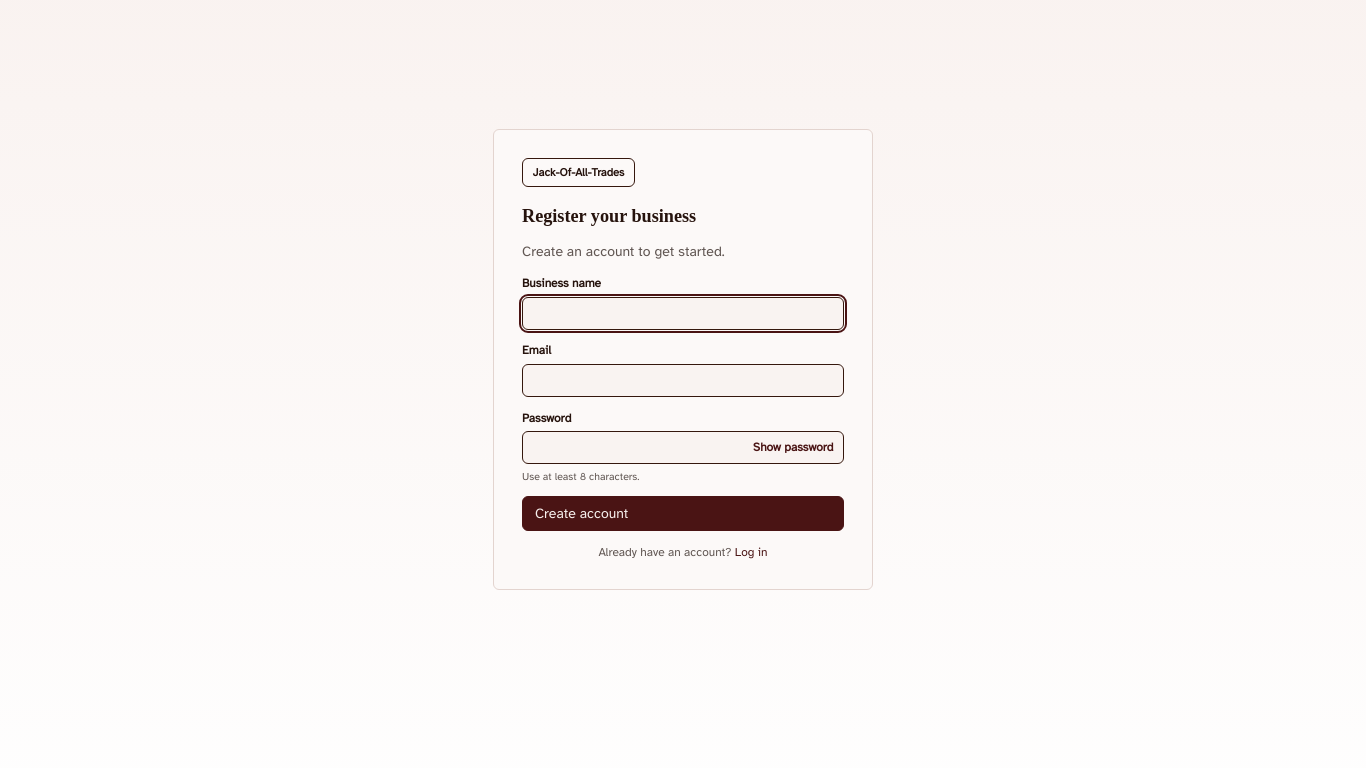
Scenario: authentication pages › shows field errors the server returns during registration
Type "Test Business" into the field labelled "Business name".
click(683, 313); type("Test Business")  # box [522,297,844,330]
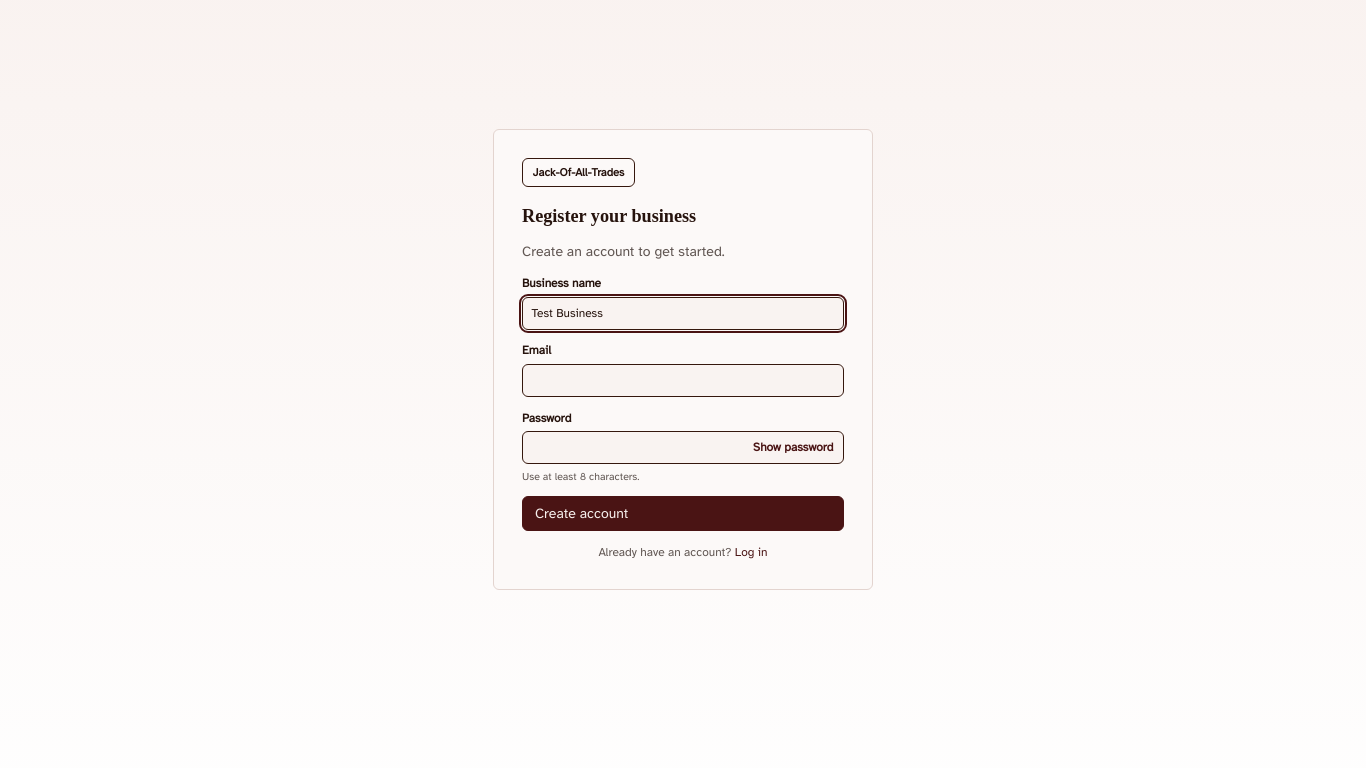
Type "owner@example.com" into the field labelled "Email".
click(683, 380); type("owner@example.com")  # box [522,364,844,397]
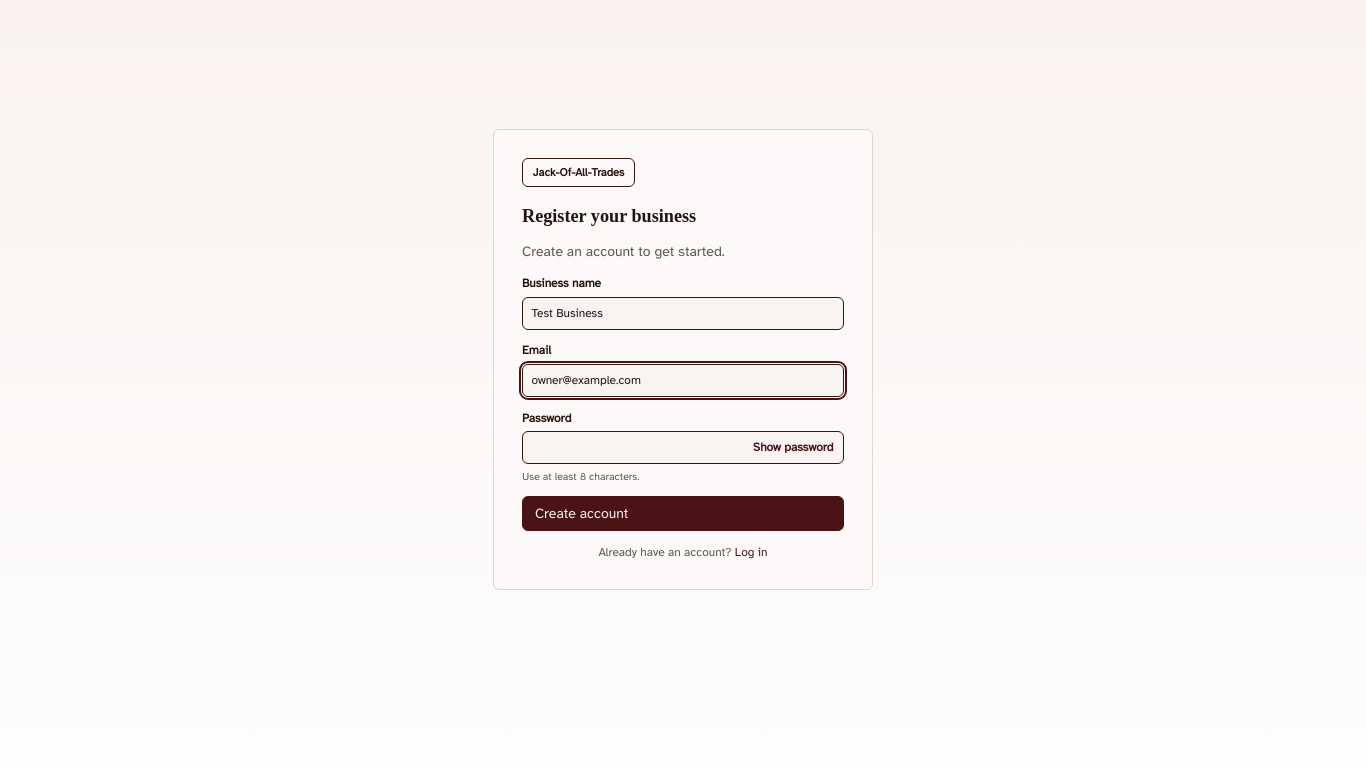
Type "password123" into the password field labelled "Password".
click(683, 448); type("password123")  # box [522,431,844,464]
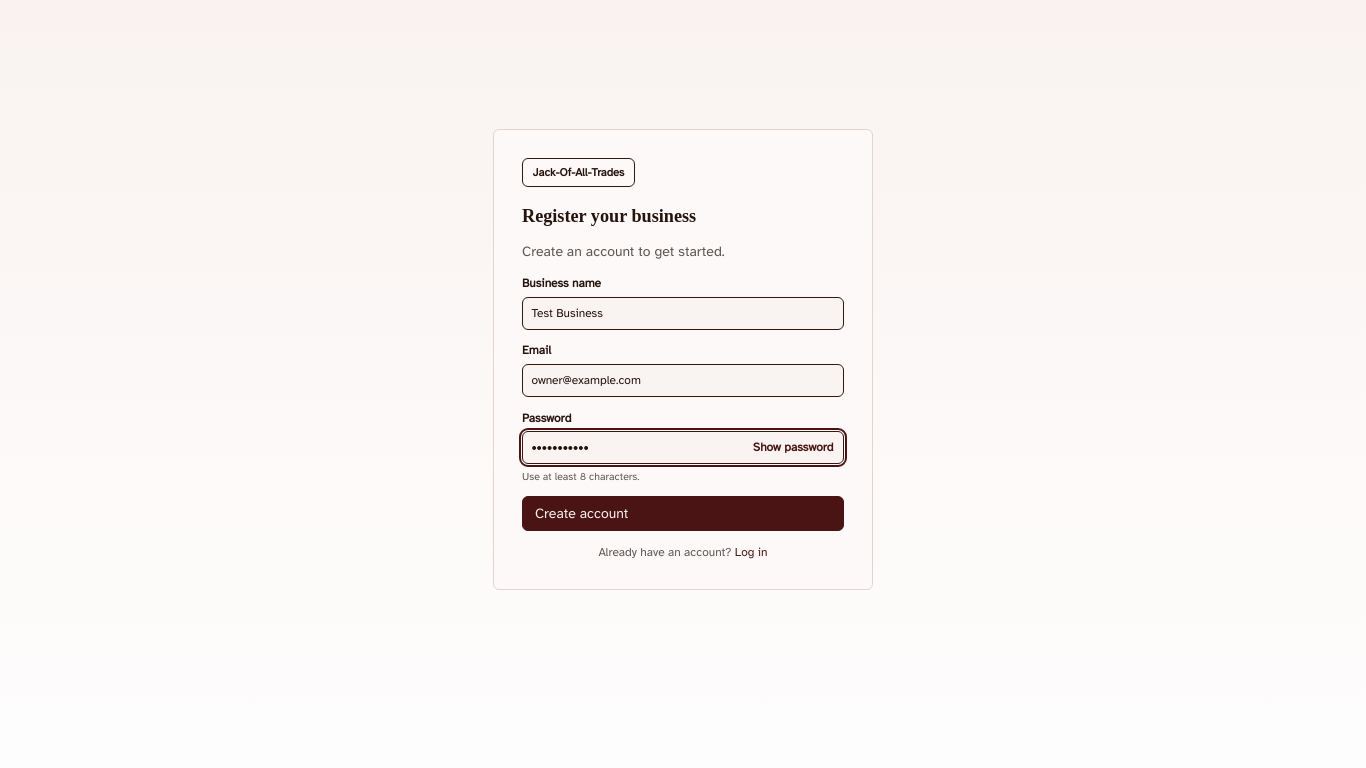
Click the button "Create account".
click(582, 513)  # box [522,496,844,531]
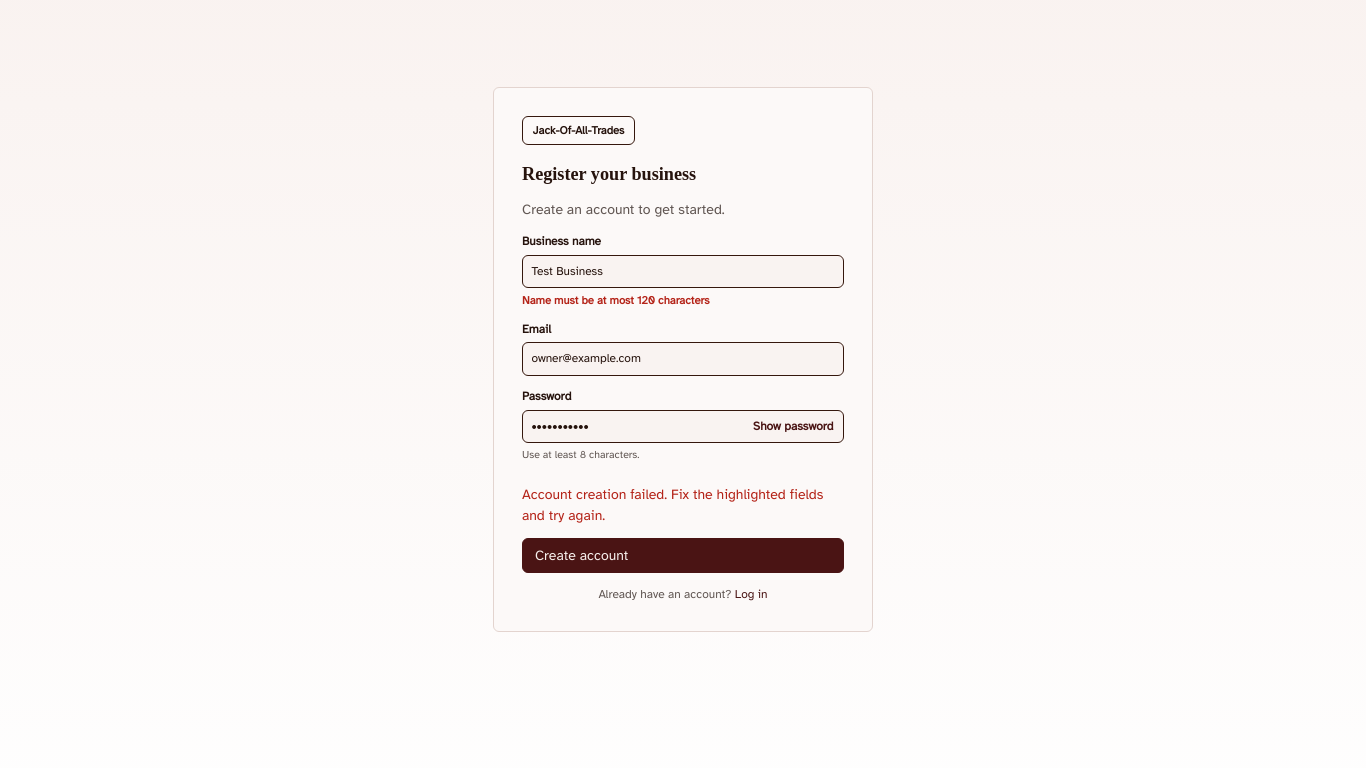
Expected: the text "Name must be at most 120 characters" is shown, [522,293,710,307]
Expected: the text "Account creation failed. Fix the highlighted fields and try again." is shown, [522,485,844,526]
